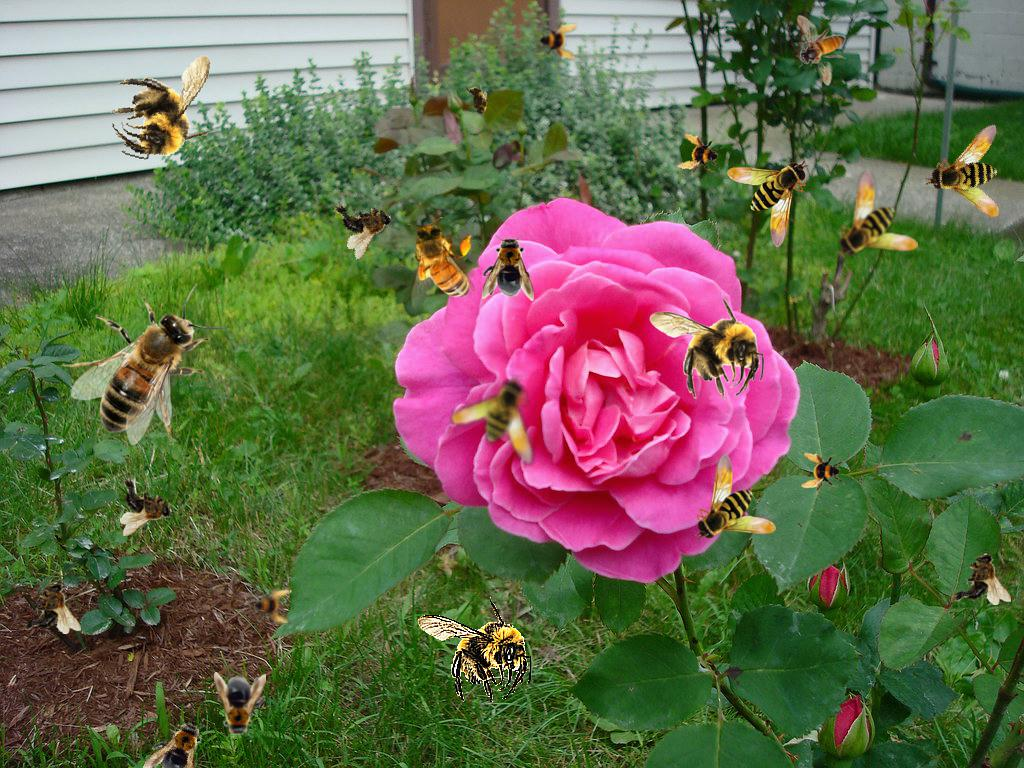Bee: (62, 283, 229, 445), (102, 38, 231, 173), (445, 372, 559, 488), (921, 107, 1024, 227), (417, 596, 532, 703), (649, 293, 764, 400), (727, 160, 809, 248), (694, 453, 776, 541), (836, 170, 918, 258), (407, 217, 475, 310), (328, 182, 403, 262), (141, 708, 217, 768), (796, 15, 846, 86), (214, 672, 266, 740), (482, 233, 534, 301), (120, 474, 173, 536), (19, 581, 81, 634), (949, 552, 1011, 605), (676, 131, 726, 181), (248, 582, 292, 626), (801, 451, 845, 495), (534, 17, 578, 61), (462, 79, 494, 123)
